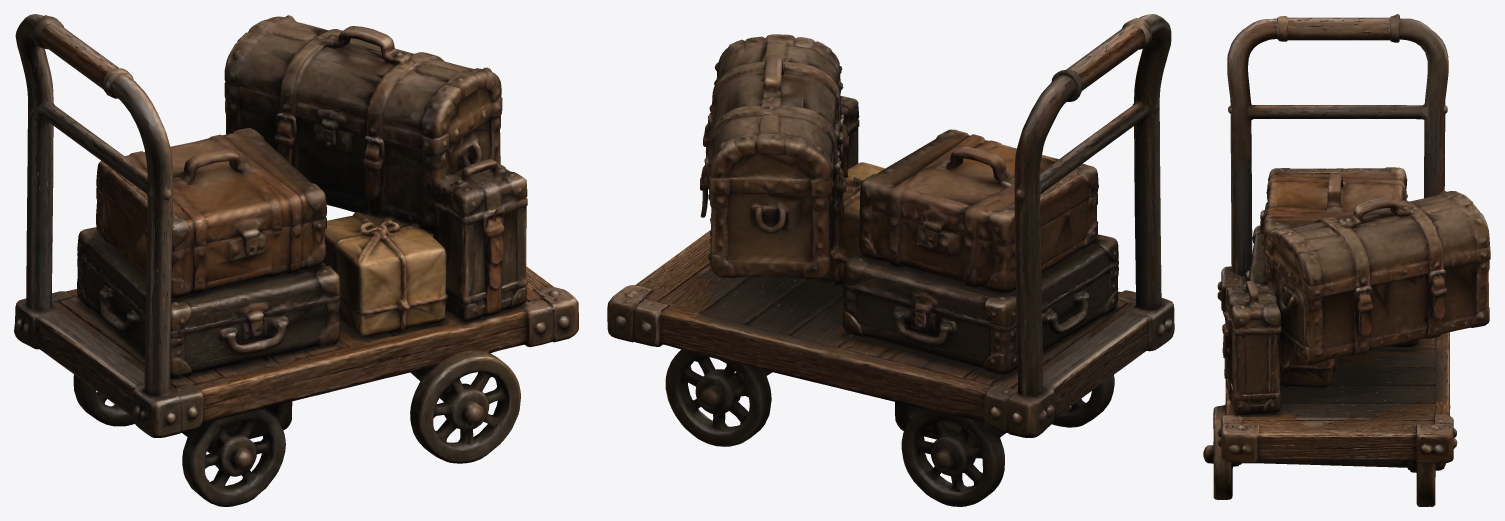
The model's file is vintage-luggage-cart.glb.
3 views of the same model, side by side, from view 1: azimuth 30°, elevation 25°; view 2: azimuth 150°, elevation 25°; view 3: azimuth 270°, elevation 25° (orthographic). The views are drawn at different scales.
Visible parts, largest first — view 1: tripo_node_60236748-c58a-4207-99c2-d500d906bcf7; view 2: tripo_node_60236748-c58a-4207-99c2-d500d906bcf7; view 3: tripo_node_60236748-c58a-4207-99c2-d500d906bcf7.
Part boxes in pixels (box(x1,y1,x2,y2)): tripo_node_60236748-c58a-4207-99c2-d500d906bcf7: box(14, 14, 578, 506); tripo_node_60236748-c58a-4207-99c2-d500d906bcf7: box(607, 14, 1174, 506); tripo_node_60236748-c58a-4207-99c2-d500d906bcf7: box(1203, 14, 1490, 506).
Size of the model in its own units: 0.9782 by 0.9336 by 0.6764.
Materials: 1 (1 with a texture image).
